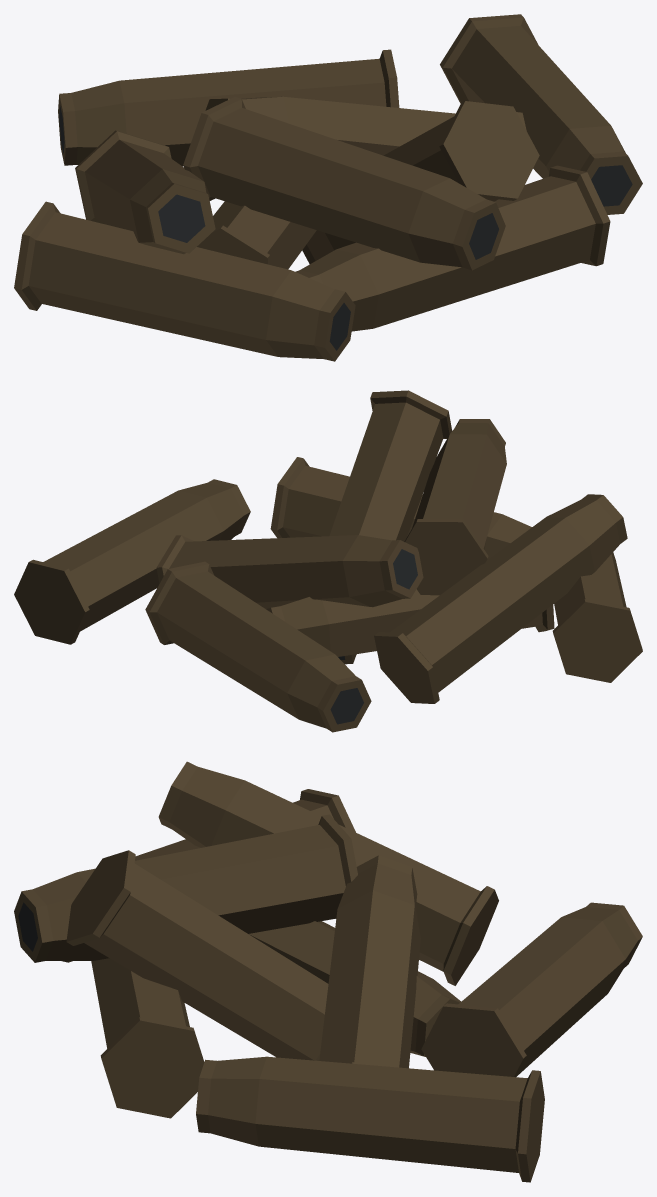
File: SM_Prop_Shell_Pile_02.glb
3 views of the same model, one above another, from view 1: azimuth 30°, elevation 25°; view 2: azimuth 150°, elevation 25°; view 3: azimuth 270°, elevation 25° (orthographic). The views are drawn at different scales.
Visible parts, largest first — view 1: SM_Prop_Shell_Pile_02; view 2: SM_Prop_Shell_Pile_02; view 3: SM_Prop_Shell_Pile_02.
Part boxes in pixels (x1,y1,x2,y2): SM_Prop_Shell_Pile_02: [14, 14, 642, 361]; SM_Prop_Shell_Pile_02: [14, 390, 642, 732]; SM_Prop_Shell_Pile_02: [14, 761, 642, 1182].
Bounding box in the file's own units: 1.71 × 0.6262 × 1.44.
Materials: 1 (1 with a texture image).
